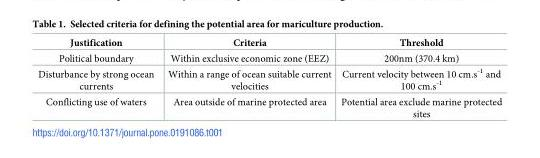table: (37, 37, 501, 118)
table column: (160, 37, 335, 118), (335, 37, 501, 118), (37, 37, 160, 118)
table column header: (37, 37, 501, 50)
table row: (37, 65, 501, 93), (37, 93, 501, 118), (37, 50, 501, 65), (37, 37, 501, 50)
